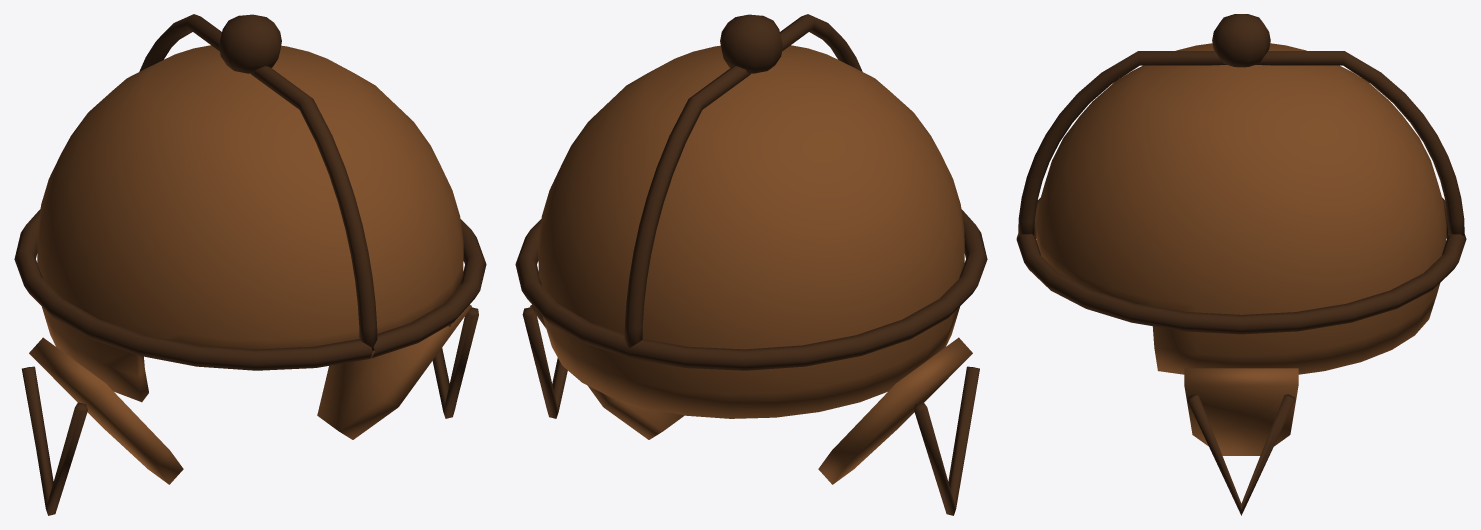
Rendered from apprentice.glb.
3 views of the same model, side by side, from view 1: azimuth 30°, elevation 25°; view 2: azimuth 150°, elevation 25°; view 3: azimuth 270°, elevation 25° (orthographic). The views are drawn at different scales.
Parts seen in each view (by area): view 1: helm; view 2: helm; view 3: helm.
Part boxes in pixels (box(x1,y1,x2,y2)): helm: box(14, 14, 486, 515); helm: box(515, 14, 987, 515); helm: box(1016, 14, 1466, 515).
Bounding box in the file's own units: 0.2642 × 0.2786 × 0.2759.
